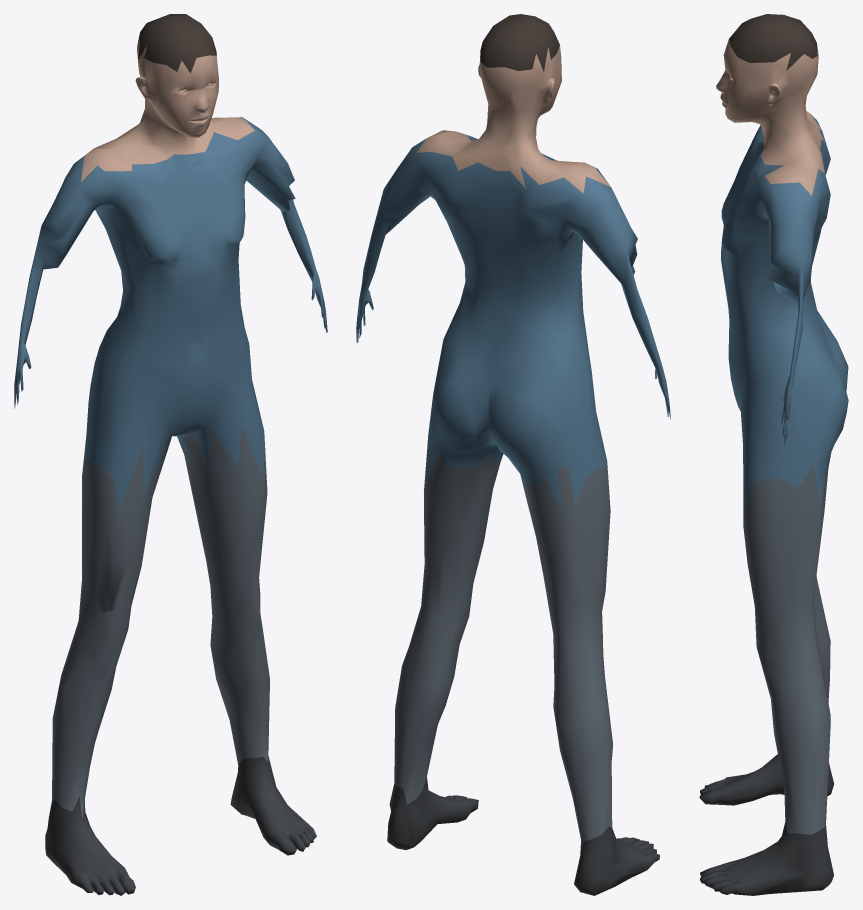
The model's file is bystander-male.glb.
3 views of the same model, side by side, from view 1: azimuth 30°, elevation 25°; view 2: azimuth 150°, elevation 25°; view 3: azimuth 270°, elevation 25° (orthographic).
Visible parts, largest first — view 1: Bystander; view 2: Bystander; view 3: Bystander.
Boxes of the visible parts, left/top/right/bottom form: Bystander: left=14, top=14, right=327, bottom=895; Bystander: left=356, top=14, right=670, bottom=895; Bystander: left=699, top=14, right=848, bottom=895.
Size of the model in its own units: 0.9713 by 2.46 by 0.4043.
